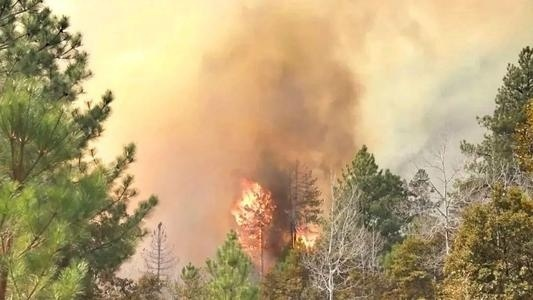fire: (229, 175, 276, 243), (293, 223, 320, 250)
